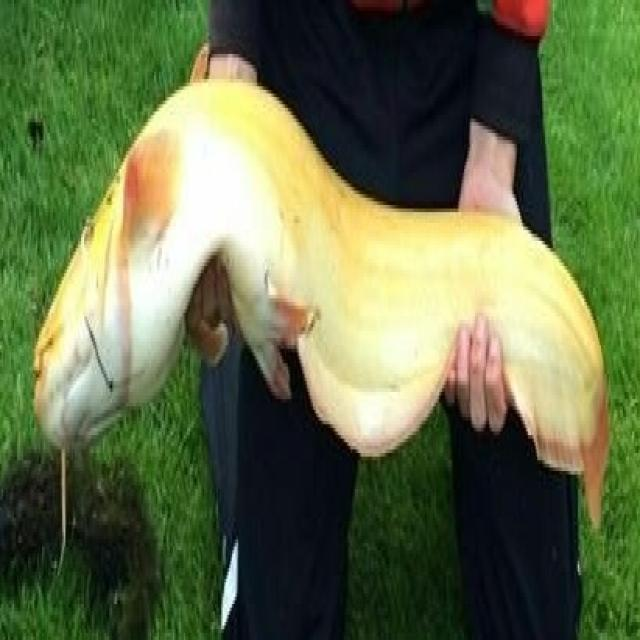Catfish: (19, 39, 616, 606)
